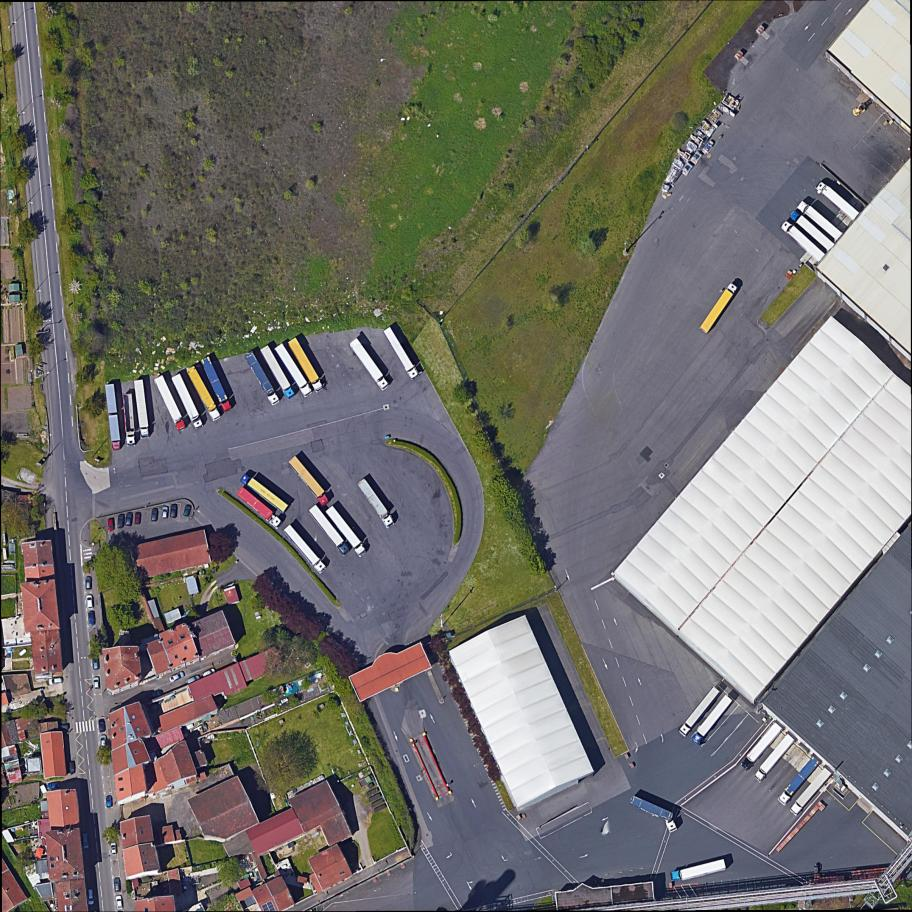large-vehicle: (621, 793, 684, 839), (307, 503, 353, 556), (751, 731, 796, 785), (287, 454, 331, 508), (678, 685, 722, 738), (347, 337, 391, 390), (777, 755, 822, 806), (282, 523, 327, 574), (324, 506, 368, 558), (286, 336, 325, 394), (789, 767, 833, 818), (739, 721, 783, 771), (355, 476, 395, 531), (185, 366, 223, 423), (778, 220, 827, 264), (382, 326, 421, 381), (258, 344, 297, 399), (690, 694, 732, 745), (238, 473, 290, 514), (699, 282, 739, 335), (788, 209, 836, 253), (235, 487, 283, 531), (794, 200, 843, 243), (274, 344, 313, 398), (243, 351, 281, 406), (154, 374, 189, 432), (199, 356, 233, 412), (172, 373, 204, 429), (816, 181, 860, 221), (669, 858, 728, 883), (105, 383, 121, 450), (134, 379, 151, 439), (123, 393, 136, 447)
small-vehicle: (168, 670, 187, 684), (148, 688, 165, 700), (185, 674, 201, 685), (201, 667, 217, 678), (115, 894, 125, 911), (47, 676, 64, 686), (87, 610, 97, 627), (86, 888, 95, 906), (85, 594, 95, 610), (124, 511, 134, 527), (46, 781, 61, 791), (113, 877, 122, 893), (170, 503, 179, 519), (183, 504, 193, 518), (82, 833, 90, 850), (98, 718, 107, 733), (107, 517, 116, 532), (117, 513, 125, 529), (68, 761, 77, 775), (99, 734, 108, 748), (84, 576, 93, 590), (110, 841, 118, 856), (93, 676, 101, 691), (151, 507, 159, 522), (105, 795, 114, 808), (162, 505, 169, 520), (134, 512, 142, 525), (92, 658, 100, 670)
